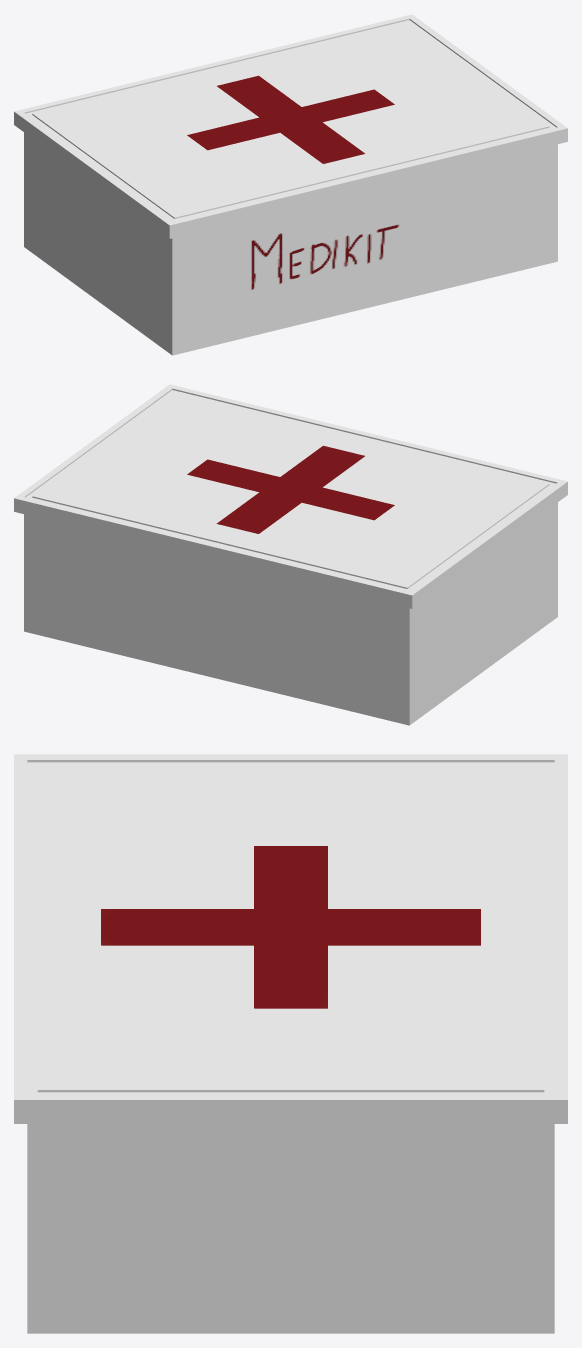
File: medikit.fbx
The picture shows the model from 3 angles, top to bottom: view 1: azimuth 30°, elevation 25°; view 2: azimuth 150°, elevation 25°; view 3: azimuth 270°, elevation 25°; orthographic projection. The views are drawn at different scales.
Visible parts, largest first — view 1: Cube; view 2: Cube; view 3: Cube.
Part boxes in pixels (x1,y1,x2,y2): Cube: (14, 14, 567, 355); Cube: (14, 384, 567, 725); Cube: (14, 754, 567, 1333).
Bounding box in the file's own units: 0.31 × 0.1 × 0.21.
